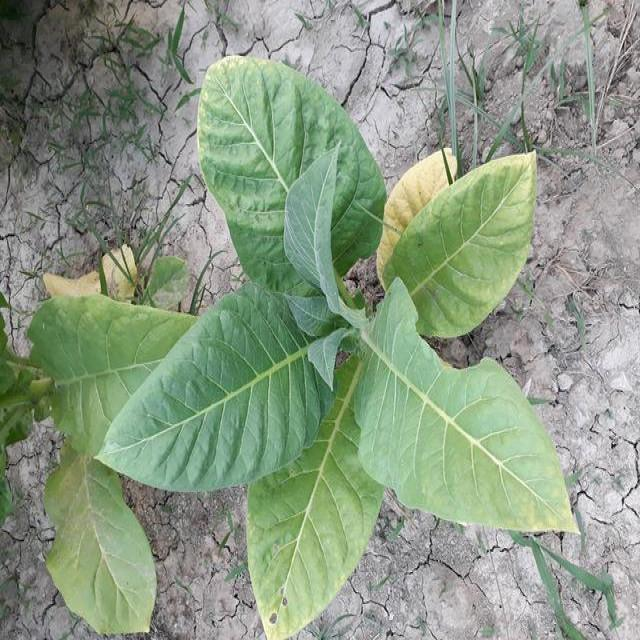crop: (119, 66, 584, 624), (2, 263, 198, 628)
